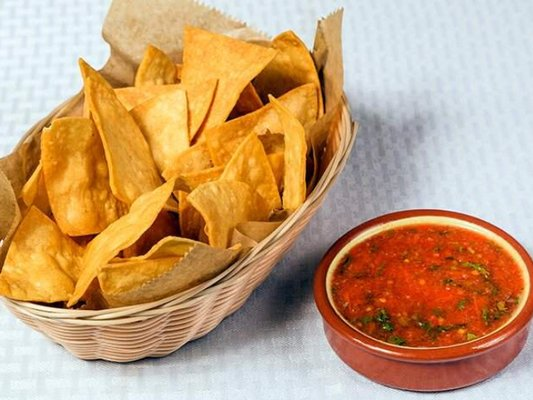sushi: (0, 6, 361, 364), (312, 208, 533, 393)
